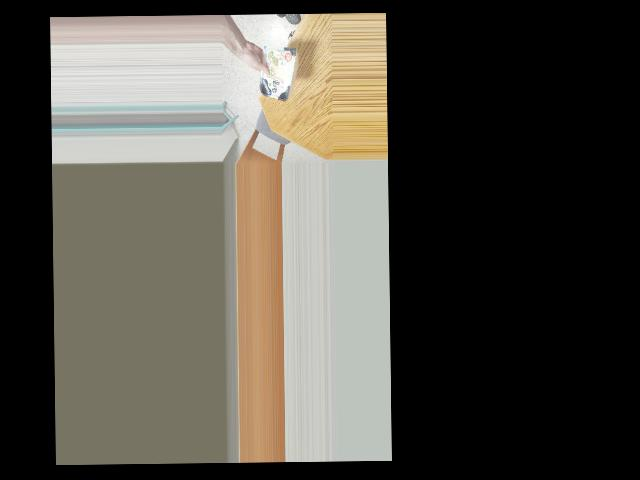cheese: (256, 42, 291, 103)
